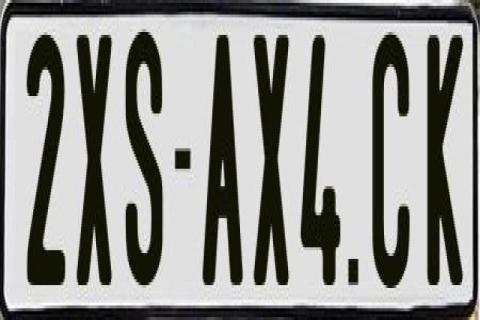0: (300, 29, 346, 285), (27, 35, 70, 299)
A: (202, 26, 242, 294)
C: (370, 32, 408, 300)
K: (426, 35, 460, 285)
S: (123, 24, 163, 282)
X: (253, 32, 295, 282), (75, 29, 110, 285)
